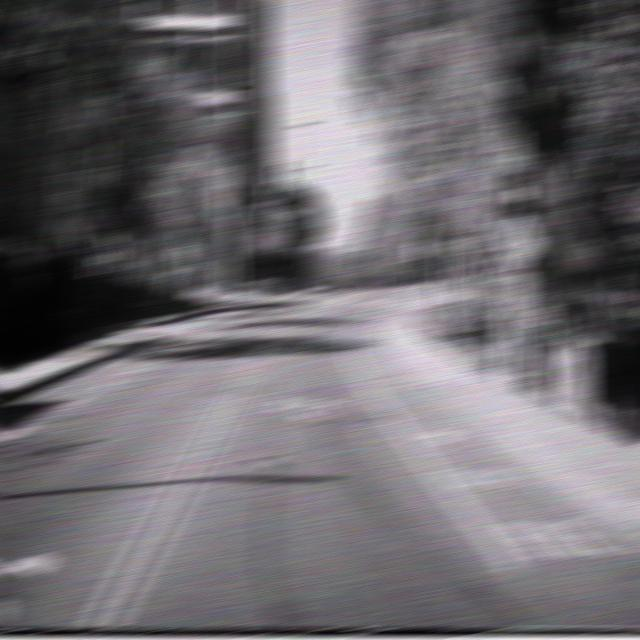pedestrianCrossing: (498, 210, 540, 271)
